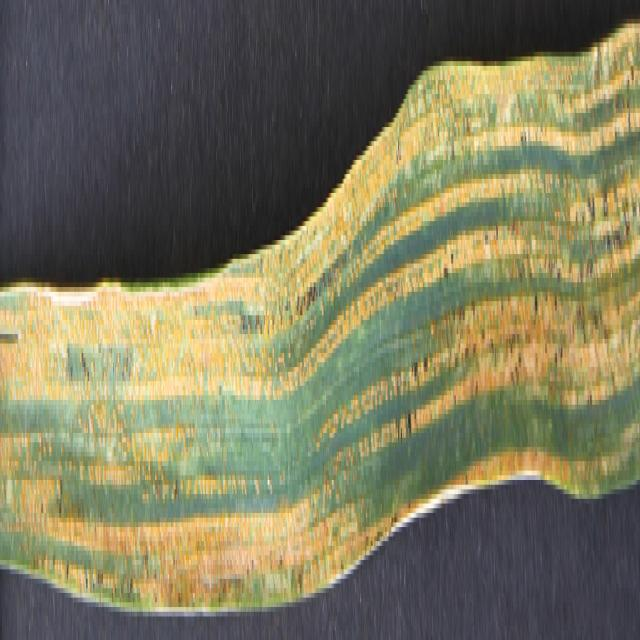leaf rust: (0, 18, 640, 597)
